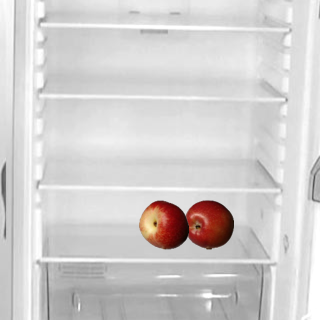Apple Braeburn: (183, 199, 233, 249)
Nectarine: (138, 199, 188, 249)
